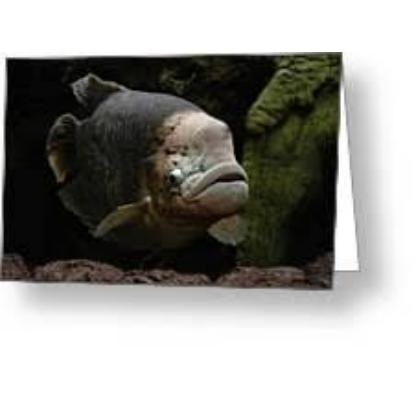gurame: (50, 78, 244, 246)
